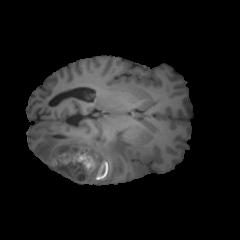glioma: (36, 129, 132, 184)
